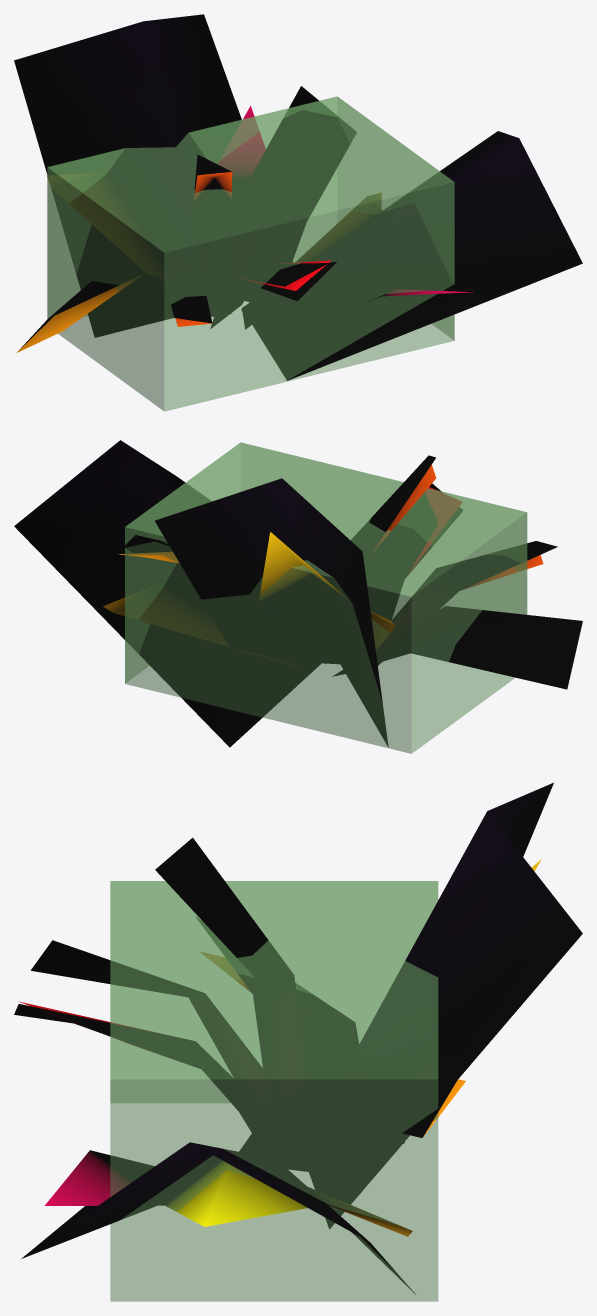
Rendered from lush_ferns_02_b.dae.
3 renders of one model, top to bottom at view 1: azimuth 30°, elevation 25°; view 2: azimuth 150°, elevation 25°; view 3: azimuth 270°, elevation 25°, orthographic. The views are drawn at different scales.
Parts seen in each view (by area): view 1: sword_fern_02_a150, Colmesh-1, sword_fern_02_a200; view 2: Colmesh-1, sword_fern_02_a150, sword_fern_02_a200; view 3: Colmesh-1, sword_fern_02_a150, sword_fern_02_a200.
Part boxes in pixels (x1,y1,x2,y2): sword_fern_02_a150: (14, 14, 582, 380); Colmesh-1: (47, 96, 454, 411); sword_fern_02_a200: (17, 106, 473, 352); Colmesh-1: (125, 442, 527, 753); sword_fern_02_a150: (14, 440, 582, 747); sword_fern_02_a200: (103, 465, 543, 676); Colmesh-1: (110, 881, 438, 1301); sword_fern_02_a150: (14, 782, 582, 1294); sword_fern_02_a200: (18, 859, 541, 1236).
Size of the model in its own units: 2.57 by 1.74 by 1.46.
